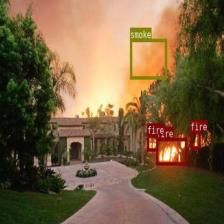fire: (156, 137, 187, 164), (146, 134, 158, 151), (190, 130, 200, 148)
smoke: (130, 39, 166, 79)
